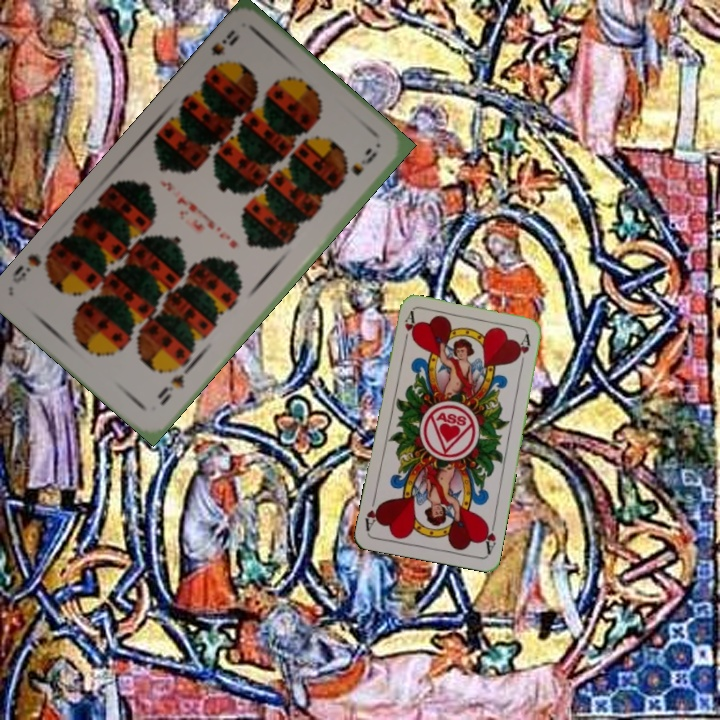HA: (479, 516, 499, 556), (400, 308, 418, 349)
S9: (203, 25, 242, 75), (153, 364, 192, 409)
